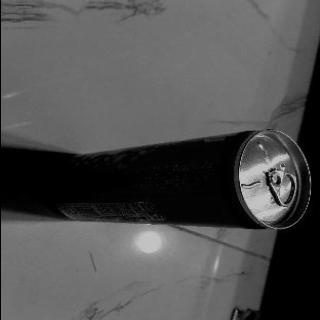alumunium_can: (45, 130, 314, 230)
